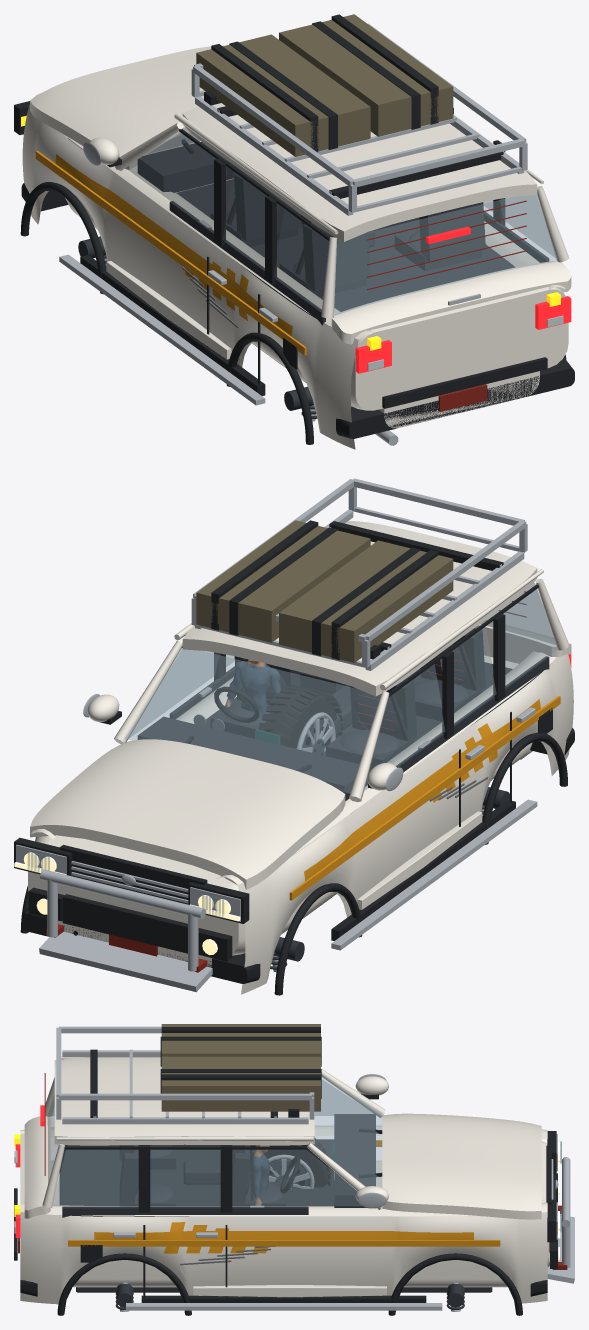
Rendered from druk-ranger.glb.
The picture shows the model from 3 angles, top to bottom: view 1: azimuth 30°, elevation 25°; view 2: azimuth 150°, elevation 25°; view 3: azimuth 270°, elevation 25°; orthographic projection. The views are drawn at different scales.
Visible parts, largest first — view 1: body_high, body_low, cosmetic_carrier (×2), cosmetic_basket, cosmetic_trail, cosmetic_stripe (×2), cosmetic_summit; view 2: body_high, body_low, cosmetic_carrier (×2), cosmetic_trail, cosmetic_basket, cosmetic_stripe (×2), wheel_high, cosmetic_summit; view 3: body_high, body_low, cosmetic_carrier (×2), cosmetic_trail, cosmetic_basket, cosmetic_stripe (×2), cosmetic_summit, wheel_high, wheel_low, damage_group, rim_touring, rim_steel.
Boxes of the visible parts, x1=… form: body_high: x1=15, y1=45, x2=574, y2=449; body_low: x1=14, y1=96, x2=571, y2=445; cosmetic_carrier (×2): x1=196, y1=14, x2=453, y2=156; cosmetic_basket: x1=191, y1=23, x2=527, y2=212; cosmetic_trail: x1=59, y1=254, x2=265, y2=405; cosmetic_stripe (×2): x1=55, y1=154, x2=292, y2=336; cosmetic_summit: x1=183, y1=248, x2=248, y2=320; body_high: x1=14, y1=510, x2=574, y2=995; body_low: x1=14, y1=510, x2=571, y2=991; cosmetic_carrier (×2): x1=196, y1=520, x2=453, y2=662; cosmetic_trail: x1=39, y1=799, x2=537, y2=992; cosmetic_basket: x1=191, y1=478, x2=527, y2=667; cosmetic_stripe (×2): x1=304, y1=699, x2=540, y2=880; wheel_high: x1=259, y1=685, x2=343, y2=746; cosmetic_summit: x1=426, y1=723, x2=497, y2=802; body_high: x1=14, y1=1050, x2=566, y2=1315; body_low: x1=14, y1=1049, x2=567, y2=1314; cosmetic_carrier (×2): x1=160, y1=1024, x2=321, y2=1111; cosmetic_trail: x1=126, y1=1157, x2=574, y2=1310; cosmetic_basket: x1=56, y1=1026, x2=314, y2=1119; cosmetic_stripe (×2): x1=94, y1=1231, x2=473, y2=1239; cosmetic_summit: x1=164, y1=1222, x2=273, y2=1253; wheel_high: x1=249, y1=1138, x2=330, y2=1186; wheel_low: x1=250, y1=1145, x2=325, y2=1187; damage_group: x1=180, y1=1246, x2=275, y2=1265; rim_touring: x1=268, y1=1154, x2=314, y2=1189; rim_steel: x1=269, y1=1156, x2=313, y2=1188.
Size of what is drawn, in the model's own units: 2.31 by 2.03 by 4.58.
